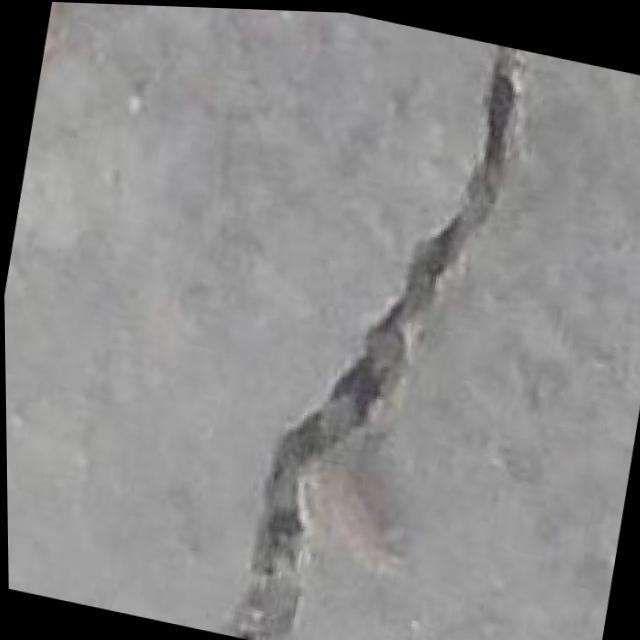Crack: (219, 6, 534, 640)
